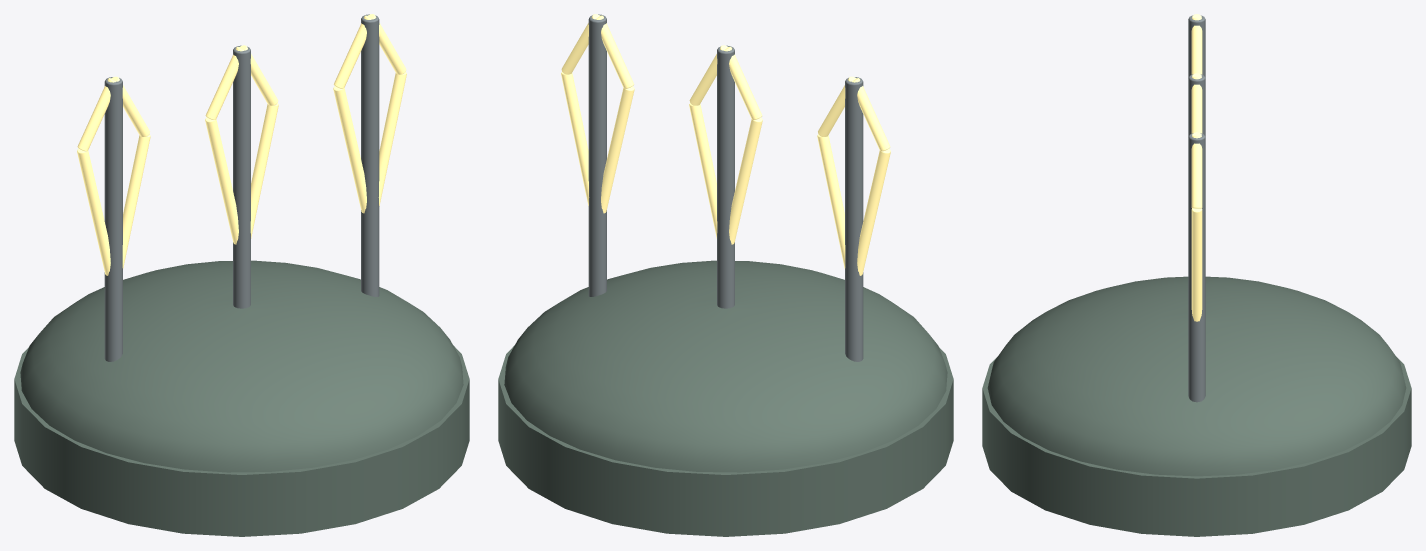
3 renders of one model, left to right at view 1: azimuth 30°, elevation 25°; view 2: azimuth 150°, elevation 25°; view 3: azimuth 270°, elevation 25°, orthographic. The views are drawn at different scales.
Parts seen in each view (by area): view 1: Shield generator low housing, Foundation drum, Shield emitter stem, Shield emitter stem.002, Shield emitter stem.001, Shield emitter cage.002, Shield emitter cage.004, Shield emitter cage, Shield emitter cage.001, Shield emitter cage.003, Shield emitter cage.005, Shield cage crown (+5 smaller); view 2: Shield generator low housing, Foundation drum, Shield emitter stem, Shield emitter stem.002, Shield emitter stem.001, Shield emitter cage.002, Shield emitter cage.004, Shield emitter cage, Shield emitter cage.001, Shield emitter cage.003, Shield emitter cage.005, Shield cage crown (+5 smaller); view 3: Shield generator low housing, Foundation drum, Shield emitter stem.002, Shield emitter cage.005, Shield cage crown.005, Shield cage crown.001, Shield cage crown.003, Shield emitter stem, Shield emitter stem.001.
Boxes of the visible parts, <box> form: Shield generator low housing: <box>20,260,463,472</box>; Foundation drum: <box>14,345,469,536</box>; Shield emitter stem: <box>104,77,122,361</box>; Shield emitter stem.002: <box>361,14,379,296</box>; Shield emitter stem.001: <box>233,45,250,308</box>; Shield emitter cage.002: <box>205,117,238,244</box>; Shield emitter cage.004: <box>333,86,366,213</box>; Shield emitter cage: <box>77,149,110,275</box>; Shield emitter cage.001: <box>122,134,150,268</box>; Shield emitter cage.003: <box>250,103,278,238</box>; Shield emitter cage.005: <box>378,72,406,206</box>; Shield cage crown: <box>77,78,115,151</box>; Shield generator low housing: <box>504,260,947,472</box>; Foundation drum: <box>498,345,953,536</box>; Shield emitter stem: <box>845,77,863,361</box>; Shield emitter stem.002: <box>588,14,606,296</box>; Shield emitter stem.001: <box>717,45,734,308</box>; Shield emitter cage.002: <box>729,117,762,244</box>; Shield emitter cage.004: <box>601,86,634,213</box>; Shield emitter cage: <box>857,149,890,275</box>; Shield emitter cage.001: <box>817,134,845,268</box>; Shield emitter cage.003: <box>689,103,717,238</box>; Shield emitter cage.005: <box>561,72,589,206</box>; Shield cage crown: <box>852,78,890,151</box>; Shield generator low housing: <box>987,276,1406,476</box>; Foundation drum: <box>982,357,1411,536</box>; Shield emitter stem.002: <box>1188,133,1205,402</box>; Shield emitter cage.005: <box>1191,208,1202,321</box>; Shield cage crown.005: <box>1191,135,1202,208</box>; Shield cage crown.001: <box>1191,17,1202,74</box>; Shield cage crown.003: <box>1191,76,1202,133</box>; Shield emitter stem: <box>1188,15,1205,77</box>; Shield emitter stem.001: <box>1188,74,1205,136</box>.
Bounding box in the file's own units: 2 × 1.91 × 2.
